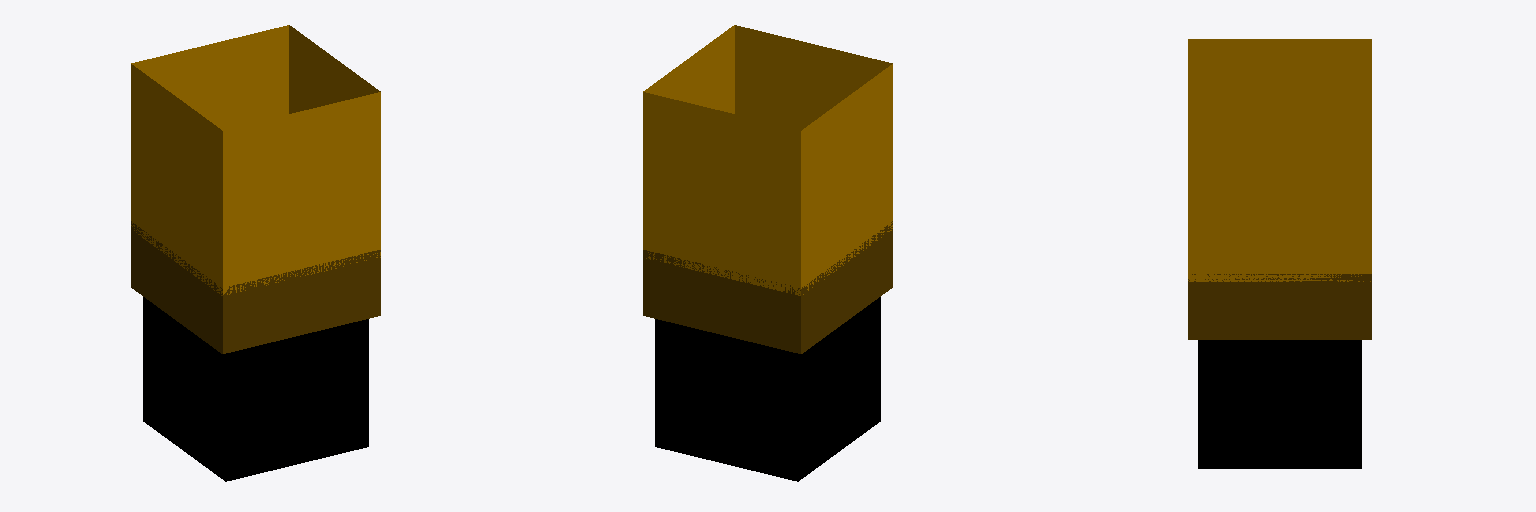
3 views of the same model, side by side, from view 1: azimuth 30°, elevation 25°; view 2: azimuth 150°, elevation 25°; view 3: azimuth 270°, elevation 25° (orthographic).
Visible parts, largest first — view 1: 平面.004; view 2: 平面.004; view 3: 平面.004.
Part boxes in pixels (bbox=[...]): 平面.004: bbox=[131, 25, 380, 481]; 平面.004: bbox=[643, 25, 892, 481]; 平面.004: bbox=[1188, 39, 1371, 468].
Bounding box in the file's own units: 20 × 43 × 20.
Materials: 1 (1 with a texture image).